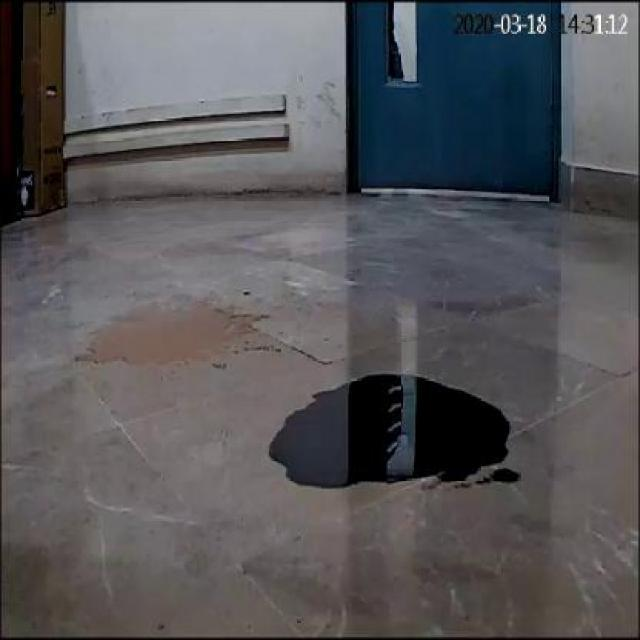spill: (272, 368, 508, 490)
